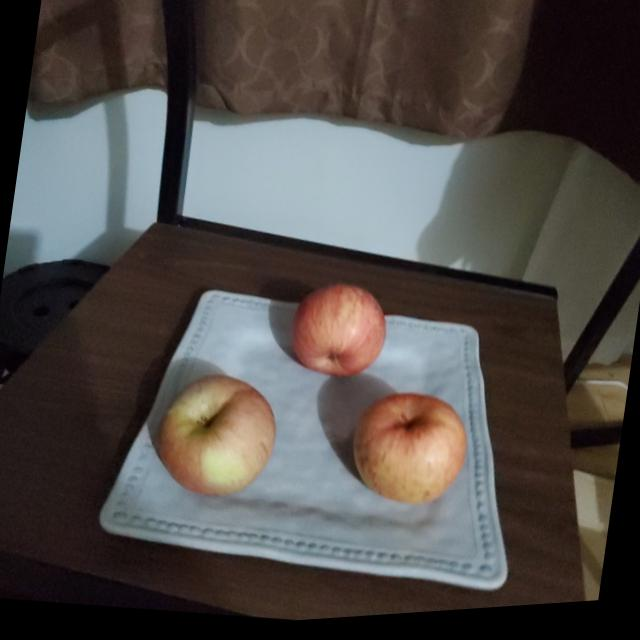apple: (152, 366, 282, 511), (345, 390, 474, 520), (282, 279, 394, 392)
